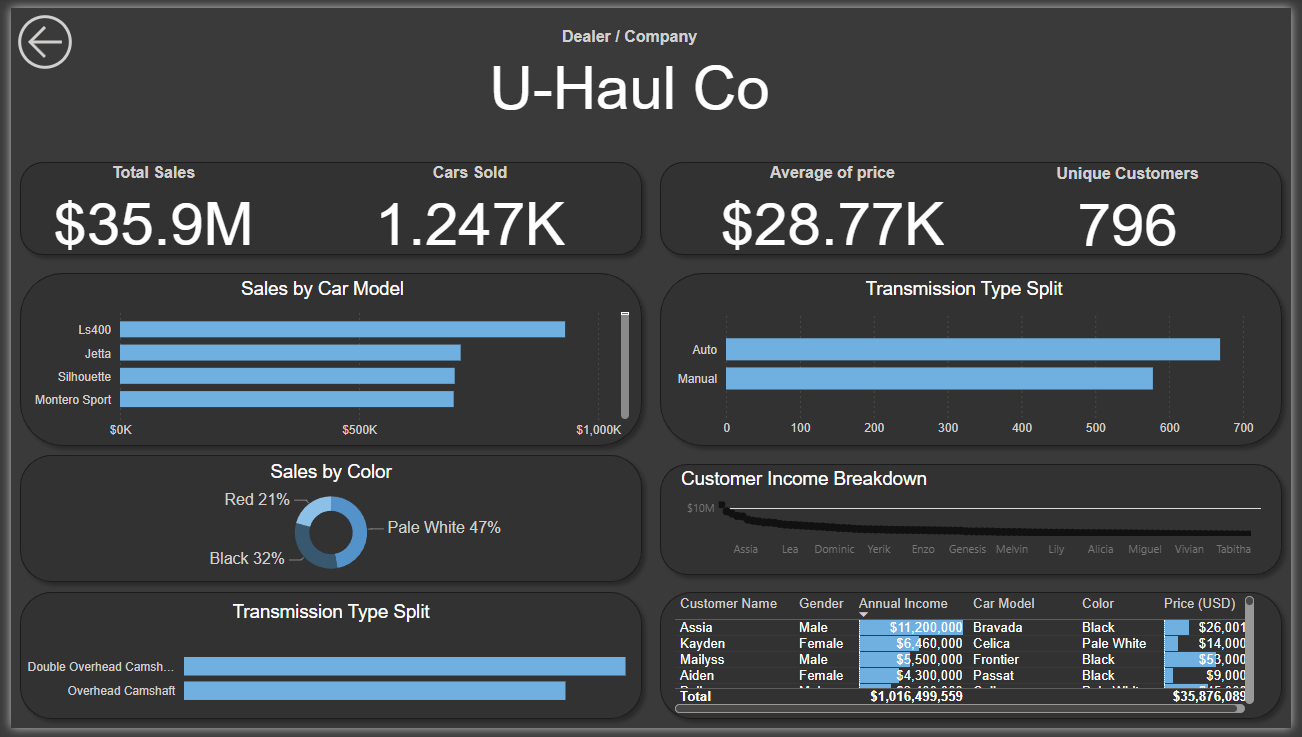

What the dashboard file says about the page in this screenshot:
{"tool":"powerbi","page":{"name":"Drill Through","canvas":[1280,720],"ordinal":1},"visuals":[{"type":"shape","box":[0,144.8,640,111.3],"z":0,"group":"g1"},{"type":"group","id":"g1","title":"Background","box":[0,144.8,1280,574.8],"z":0},{"type":"cardVisual","title":"Dealer Name / Company Name","fields":{"Data":["vw_sales_export_20251022_164507.dealer_name"]},"box":[111.1,0,1015.1,136],"z":1000},{"type":"shape","box":[640,144.8,640,111.3],"z":1000,"group":"g1"},{"type":"shape","box":[0,256.1,640,191],"z":2000,"group":"g1"},{"type":"cardVisual","fields":{"Data":["vw_sales_export_20251022_164507.price"]},"box":[8,140.4,269.3,106.7],"z":2000},{"type":"cardVisual","fields":{"Data":["vw_sales_export_20251022_164507.car_id"]},"box":[298.7,140.4,320,103.1],"z":3000},{"type":"shape","box":[0,438.3,640,144.9],"z":3000,"group":"g1"},{"type":"cardVisual","fields":{"Data":["vw_sales_export_20251022_164507.price"]},"box":[682.7,140.4,277.3,120.9],"z":4000},{"type":"shape","box":[0,574.8,640,144.8],"z":4000,"group":"g1"},{"type":"shape","box":[640,256.1,640,191],"z":5000,"group":"g1"},{"type":"cardVisual","fields":{"Data":["vw_sales_export_20251022_164507.customer_name"]},"box":[960,140.4,312.9,129.8],"z":5000},{"type":"barChart","title":"Sales by Car Model","fields":{"Y":["vw_sales_export_20251022_164507.price"],"Category":["vw_sales_export_20251022_164507.model"]},"box":[0,270.2,623.1,168],"z":6000},{"type":"shape","box":[640,447.1,640,128.5],"z":6000,"group":"g1"},{"type":"shape","box":[640,574.8,640,144.8],"z":7000,"group":"g1"},{"type":"donutChart","title":"Sales by Color","fields":{"Y":["vw_sales_export_20251022_164507.car_id"],"Category":["vw_sales_export_20251022_164507.color"]},"box":[0,453.3,640,121.8],"z":7000},{"type":"barChart","title":"Transmission Type Split","fields":{"Category":["vw_sales_export_20251022_164507.transmission"],"Y":["vw_sales_export_20251022_164507.car_id"]},"box":[657.8,270.2,590.2,166.2],"z":8000},{"type":"BoxWhiskerChart1455240051538","title":"Customer Income Breakdown","fields":{"Groups":["vw_sales_export_20251022_164507.customer_name"],"Values":["vw_sales_export_20251022_164507.annual_income"]},"box":[664.9,459.6,590.2,103.1],"z":9000},{"type":"tableEx","fields":{"Values":["vw_sales_export_20251022_164507.customer_name","vw_sales_export_20251022_164507.gender","vw_sales_export_20251022_164507.annual_income","vw_sales_export_20251022_164507.model","vw_sales_export_20251022_164507.color","vw_sales_export_20251022_164507.price"]},"box":[657.8,583.1,590.2,127.1],"z":10000},{"type":"barChart","title":"Transmission Type Split","fields":{"Category":["vw_sales_export_20251022_164507.engine"],"Y":["vw_sales_export_20251022_164507.car_id"]},"box":[0,592.9,640,127.1],"z":11000},{"type":"actionButton","box":[0,0,100.4,68.4],"z":12000}]}

Visuals, with their boxes in screenshot pixels (x1, y1, x2, y2), scaled from the page's 1280x720 canvas onto the 1302x737 screenshot:
shape: box(0, 148, 651, 262)
"Background" group: box(0, 148, 1301, 736)
"Dealer Name / Company Name" cardVisual: box(113, 0, 1146, 139)
shape: box(651, 148, 1301, 262)
shape: box(0, 262, 651, 458)
cardVisual - vw_sales_export_20251022_164507.price: box(8, 144, 282, 253)
cardVisual - vw_sales_export_20251022_164507.car_id: box(304, 144, 629, 249)
shape: box(0, 449, 651, 597)
cardVisual - vw_sales_export_20251022_164507.price: box(694, 144, 976, 267)
shape: box(0, 588, 651, 736)
shape: box(651, 262, 1301, 458)
cardVisual - vw_sales_export_20251022_164507.customer_name: box(976, 144, 1295, 277)
"Sales by Car Model" barChart: box(0, 277, 634, 449)
shape: box(651, 458, 1301, 589)
shape: box(651, 588, 1301, 736)
"Sales by Color" donutChart: box(0, 464, 651, 589)
"Transmission Type Split" barChart: box(669, 277, 1269, 447)
"Customer Income Breakdown" BoxWhiskerChart1455240051538: box(676, 470, 1277, 576)
tableEx - vw_sales_export_20251022_164507.customer_name x vw_sales_export_20251022_164507.gender: box(669, 597, 1269, 727)
"Transmission Type Split" barChart: box(0, 607, 651, 736)
actionButton: box(0, 0, 102, 70)
